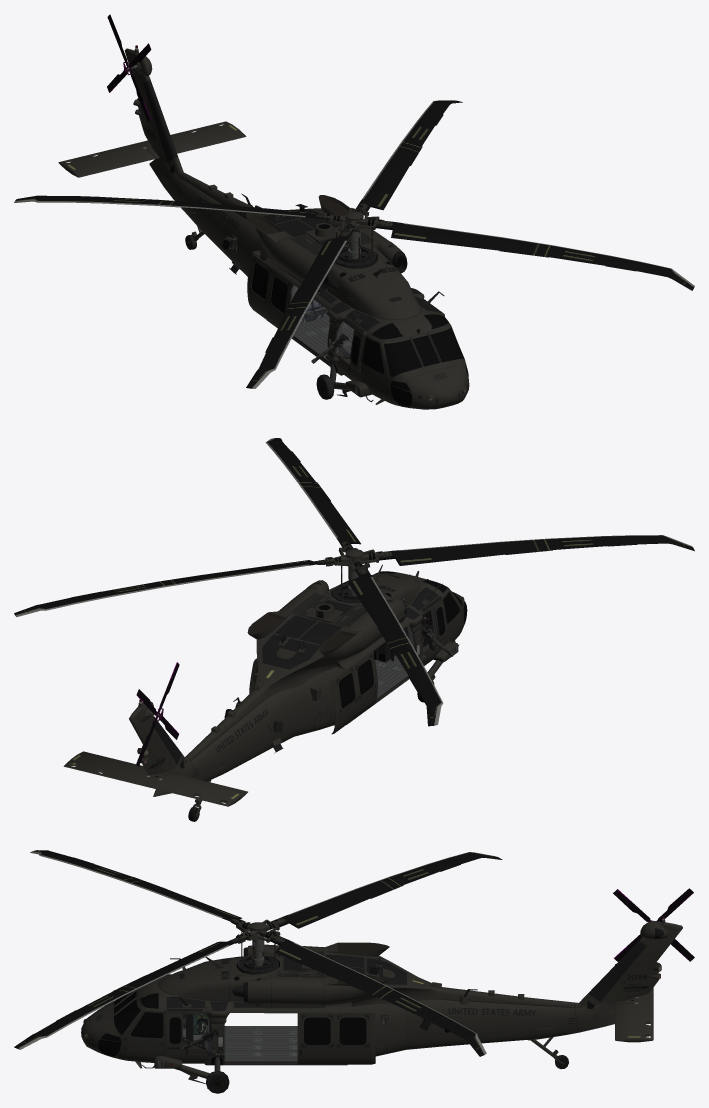
3 renders of one model, top to bottom at view 1: azimuth 30°, elevation 25°; view 2: azimuth 150°, elevation 25°; view 3: azimuth 270°, elevation 25°, orthographic. The views are drawn at different scales.
Visible parts, largest first — view 1: Fuselage_6, main rotor prop_7, Door open_5, TAIL ROTOR_4; view 2: Fuselage_6, main rotor prop_7, Door open_5, TAIL ROTOR_4; view 3: Fuselage_6, main rotor prop_7, Door open_5, TAIL ROTOR_4.
Boxes of the visible parts, left/top/right/bottom form: Fuselage_6: left=58, top=45, right=469, bottom=409; main rotor prop_7: left=14, top=100, right=694, bottom=388; Door open_5: left=247, top=253, right=364, bottom=372; TAIL ROTOR_4: left=107, top=14, right=151, bottom=121; Fuselage_6: left=63, top=549, right=467, bottom=821; main rotor prop_7: left=14, top=438, right=694, bottom=726; Door open_5: left=249, top=601, right=454, bottom=734; TAIL ROTOR_4: left=136, top=662, right=179, bottom=766; Fuselage_6: left=81, top=916, right=682, bottom=1093; main rotor prop_7: left=14, top=850, right=502, bottom=1056; Door open_5: left=166, top=1012, right=375, bottom=1064; TAIL ROTOR_4: left=613, top=888, right=694, bottom=961.
Bounding box in the file's own units: 12.21 × 4.85 × 17.02.
1 material, 1 textured.
